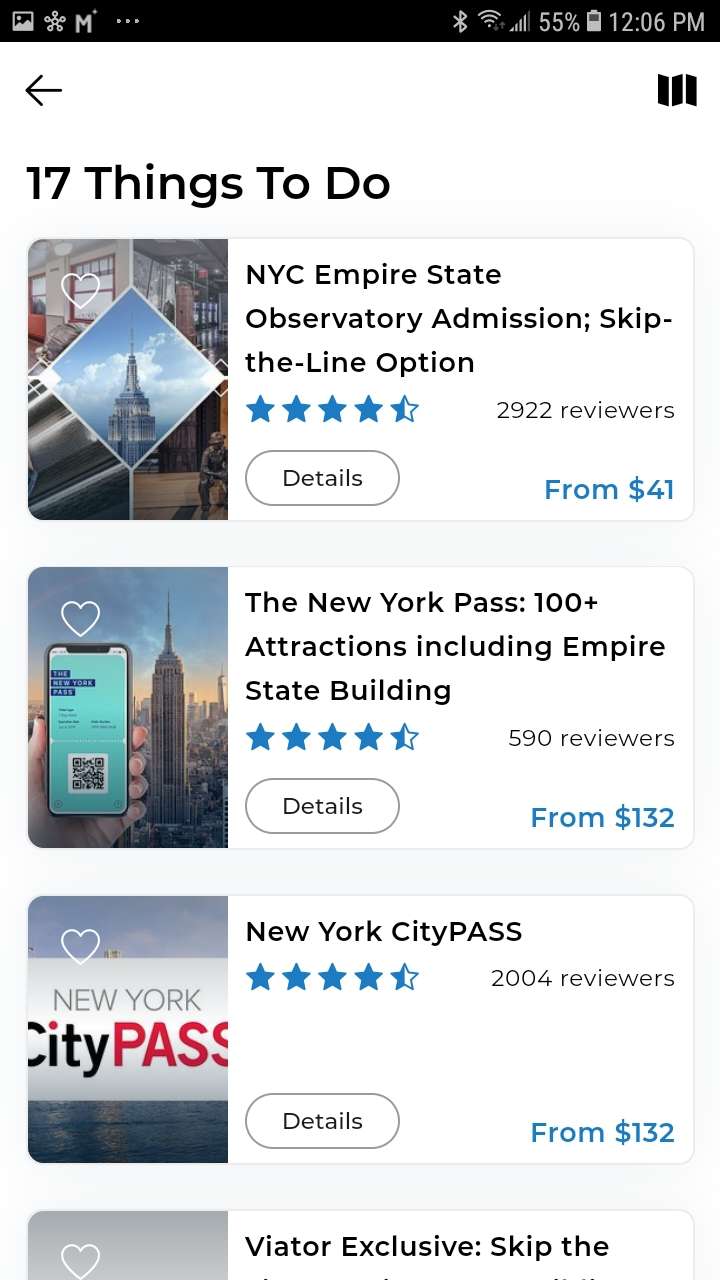Icon: (246, 395, 420, 424), (246, 722, 420, 751), (246, 962, 420, 991), (61, 928, 102, 966), (60, 600, 101, 638), (62, 273, 102, 311), (61, 1243, 102, 1280), (658, 74, 698, 108), (25, 75, 64, 108)
Image: (29, 240, 229, 521), (29, 567, 229, 848), (29, 896, 229, 1163), (28, 1211, 228, 1280)
Text: (245, 262, 673, 378), (245, 591, 666, 706), (26, 163, 390, 209), (245, 1234, 609, 1261), (247, 919, 523, 947), (532, 804, 675, 831), (532, 1119, 675, 1146), (492, 968, 675, 987), (545, 476, 673, 503), (497, 400, 675, 419), (509, 729, 675, 748)
TextButton: (245, 450, 401, 507), (245, 778, 401, 835), (245, 1093, 401, 1150)
UpperTaskBar: (1, 1, 720, 43)
